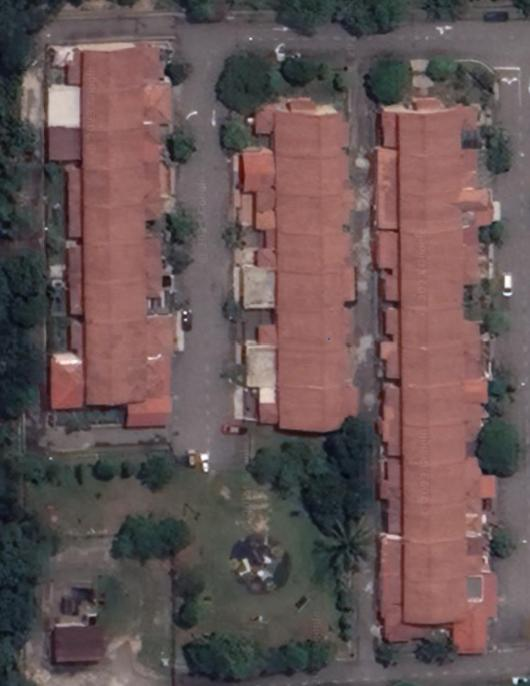building: (46, 349, 176, 433), (376, 574, 500, 656), (43, 79, 175, 135), (243, 99, 353, 163), (374, 456, 498, 509), (235, 146, 353, 200), (372, 188, 497, 238), (377, 379, 492, 432), (377, 533, 491, 586), (62, 312, 177, 364), (378, 102, 482, 159), (378, 338, 487, 391), (374, 417, 485, 468), (62, 42, 167, 95), (373, 148, 484, 198), (44, 129, 167, 174), (61, 164, 173, 212), (253, 387, 362, 435), (61, 237, 165, 287), (371, 229, 482, 275), (247, 232, 356, 278), (383, 500, 487, 547), (254, 194, 356, 241), (376, 311, 485, 354), (64, 282, 166, 327), (376, 270, 482, 313), (255, 313, 356, 358), (60, 203, 168, 245), (272, 275, 357, 317), (271, 354, 356, 393)
